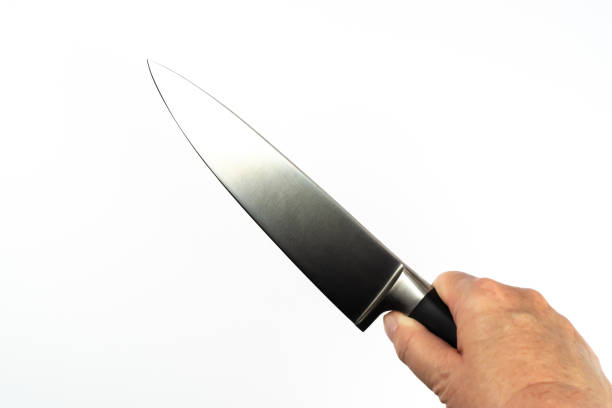knife: (146, 56, 458, 348)
